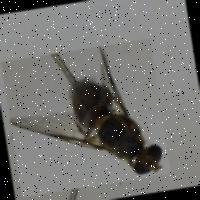Oriental-fruit-fly: (0, 38, 170, 197)
